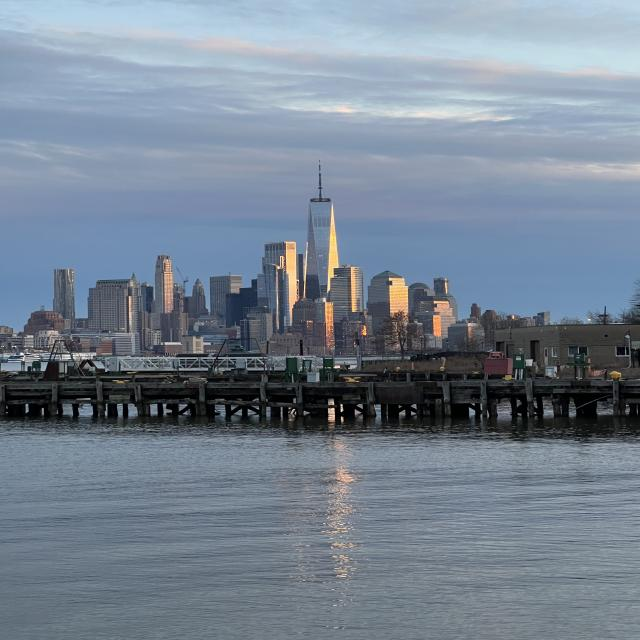WTC: (306, 161, 337, 296)
